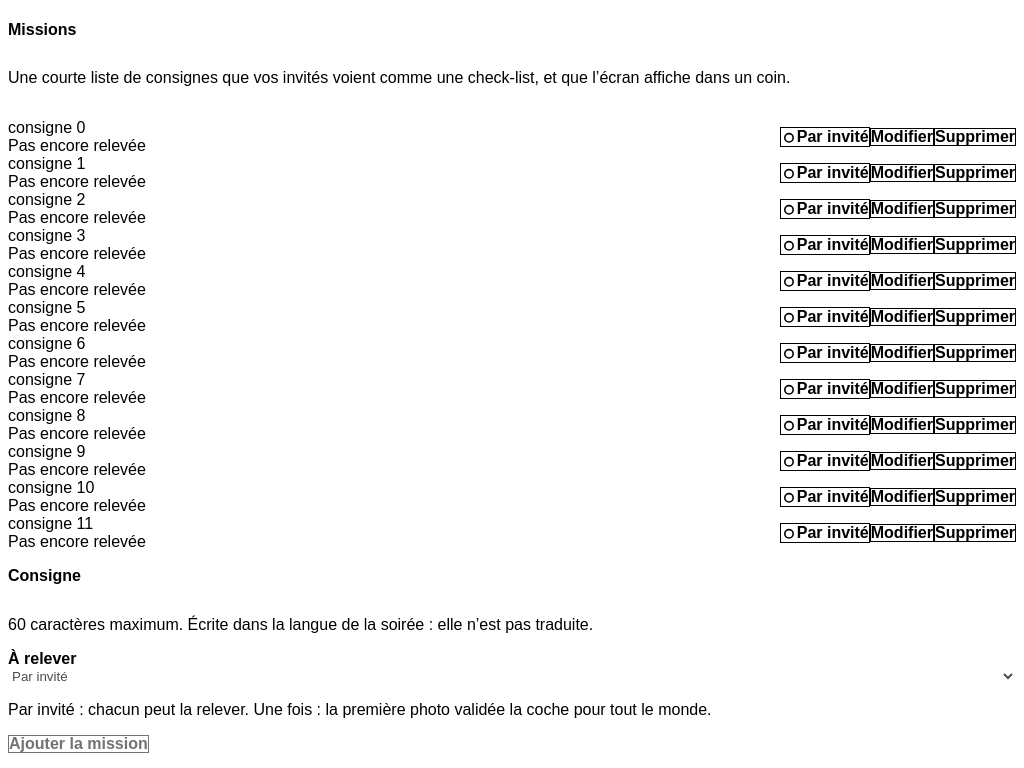
Test: MissionsPanel › still lets a full list be corrected, because the ceiling is on adding
This screenshot has width=1024, height=768.
Click the button "Modifier" in the row of "consigne 0".
click(902, 136)  # box [870,128,934,146]
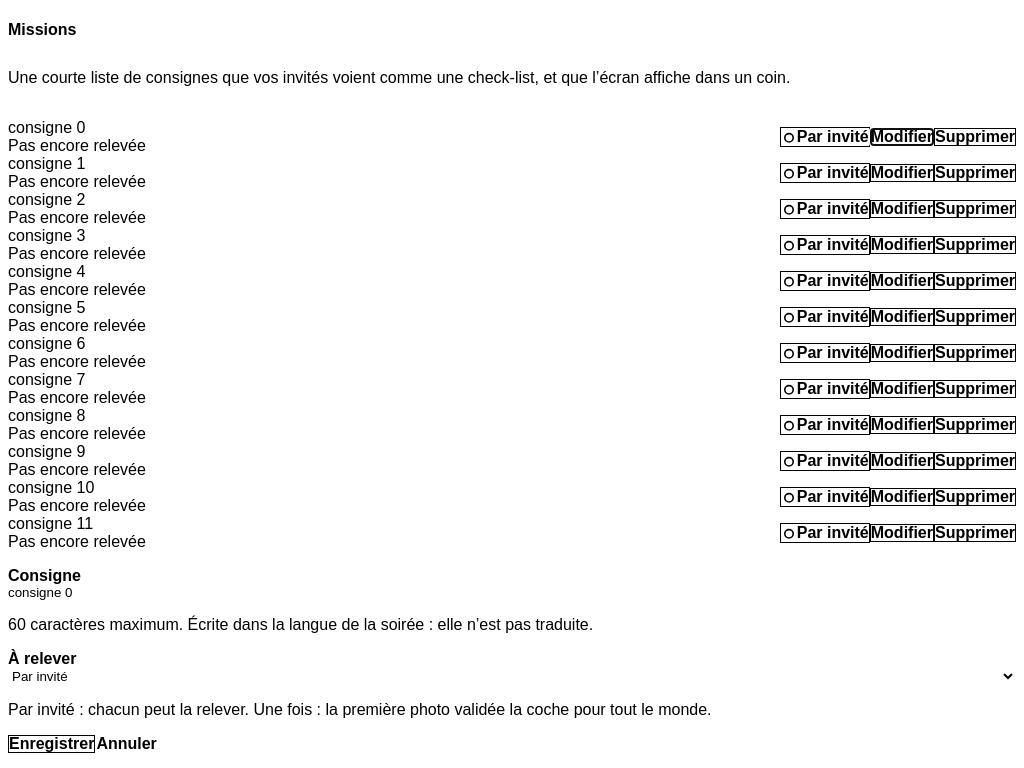
Expected: the field labelled "Consigne" is enabled, [8,584,1016,600]
Expected: the button "Enregistrer" is enabled, [8,734,95,752]
